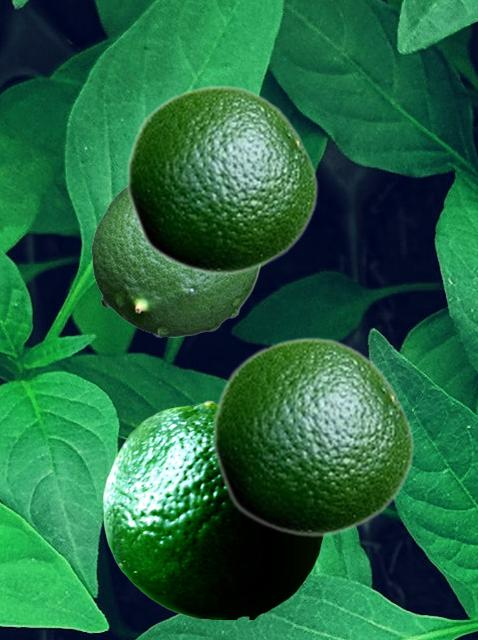calamansi: (103, 400, 325, 618), (211, 336, 414, 537), (125, 84, 318, 275), (91, 186, 261, 336)
